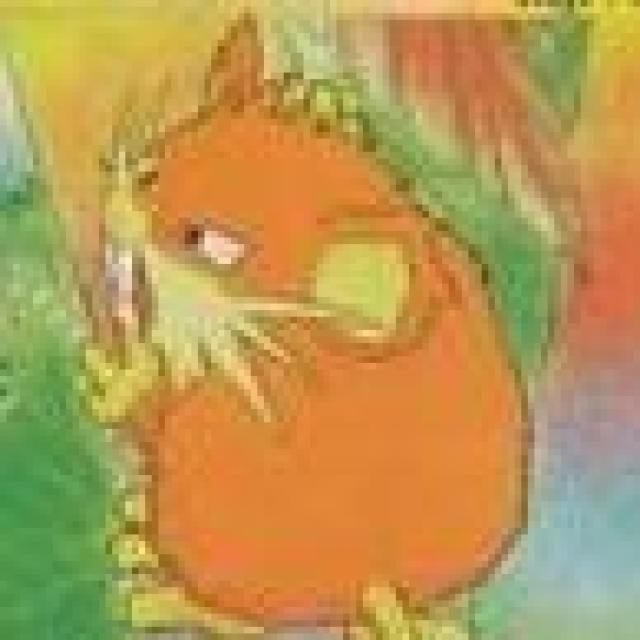Raticate: (92, 79, 526, 633)
